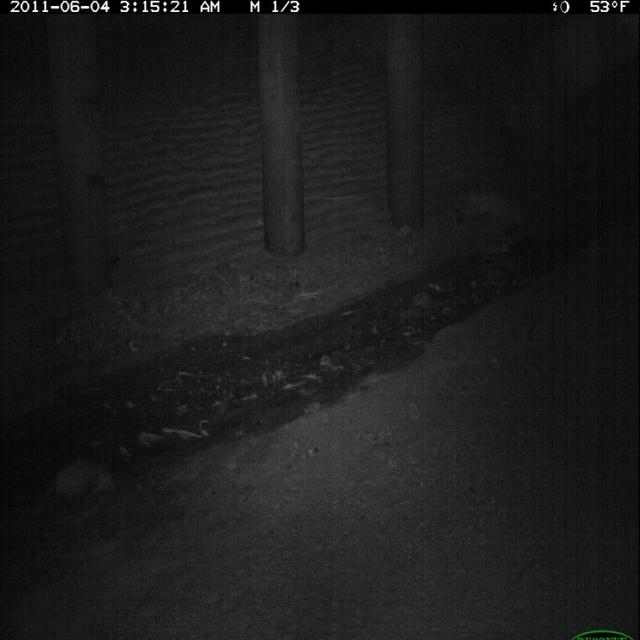opossum: (38, 455, 120, 508)
